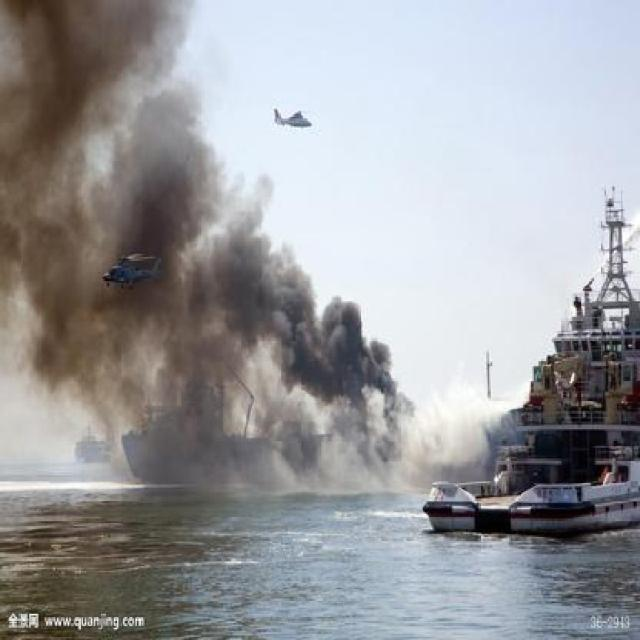Smoke: (2, 5, 414, 498)
